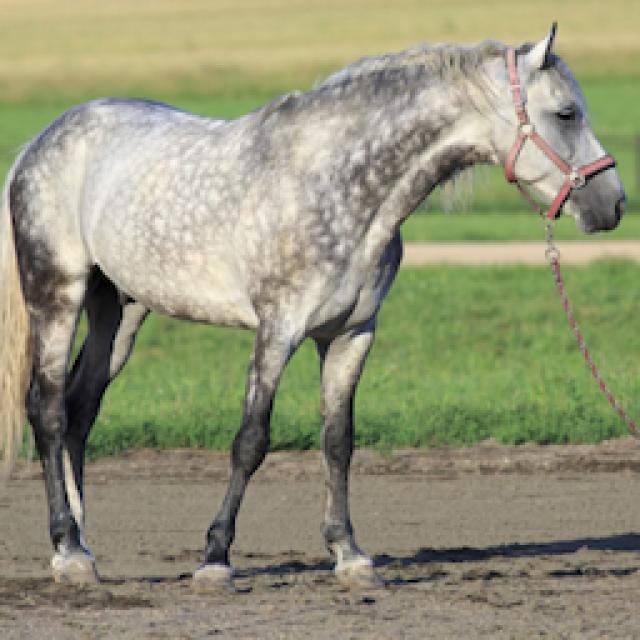Horse: (0, 18, 638, 598)
